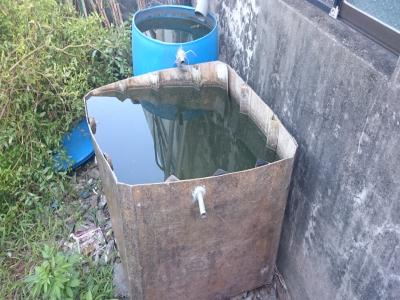box: (82, 56, 300, 299)
bucket: (131, 4, 220, 77)
